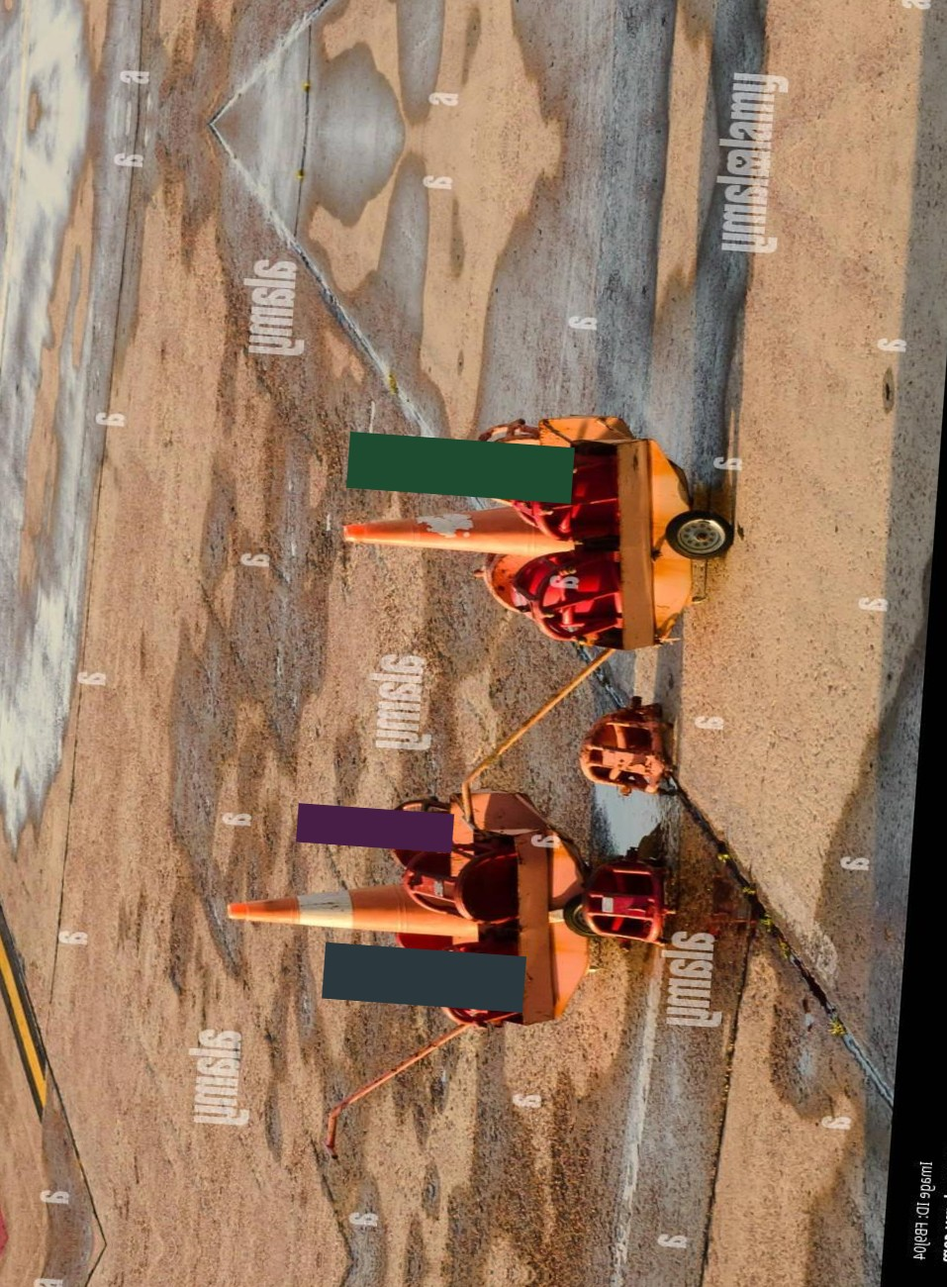chock: (501, 545, 628, 648), (573, 692, 684, 807), (500, 451, 625, 547), (400, 833, 523, 929), (421, 939, 529, 1031), (576, 849, 673, 947), (458, 417, 544, 508), (372, 794, 459, 880), (472, 551, 557, 623), (385, 931, 450, 971)
wheel: (664, 506, 737, 563), (560, 888, 623, 943)
